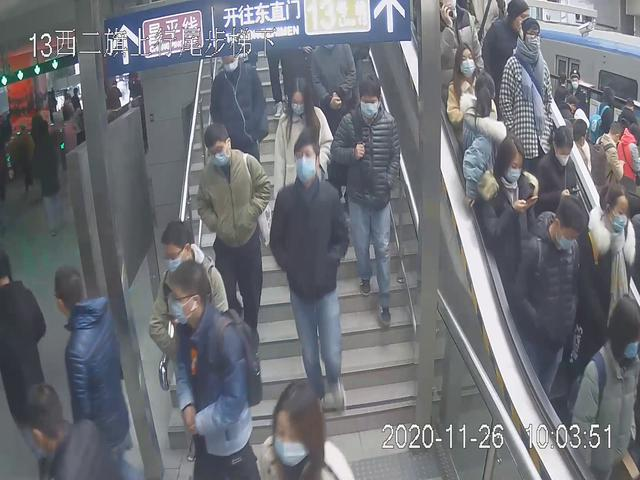person: (272, 131, 355, 419), (165, 259, 265, 480), (193, 120, 275, 345), (329, 78, 401, 332), (508, 196, 586, 407), (570, 289, 640, 480), (199, 40, 271, 210), (496, 15, 553, 190)
